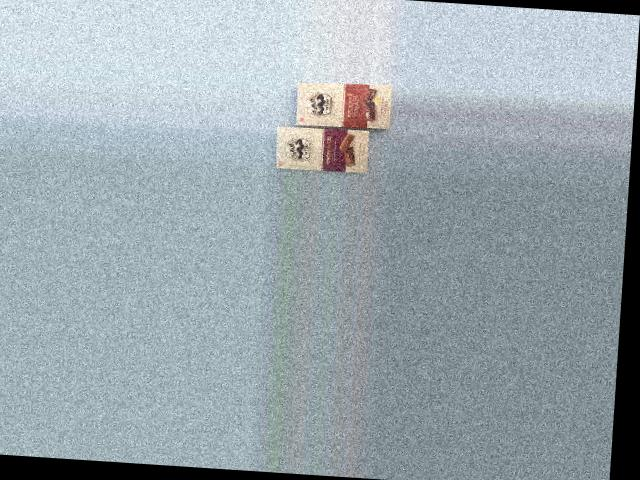chocolate: (290, 77, 394, 140)
